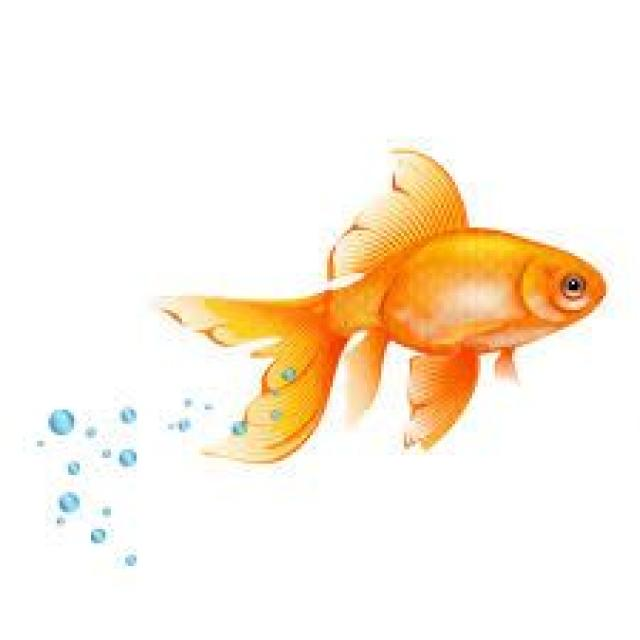Gold-Fish: (102, 91, 640, 503)
